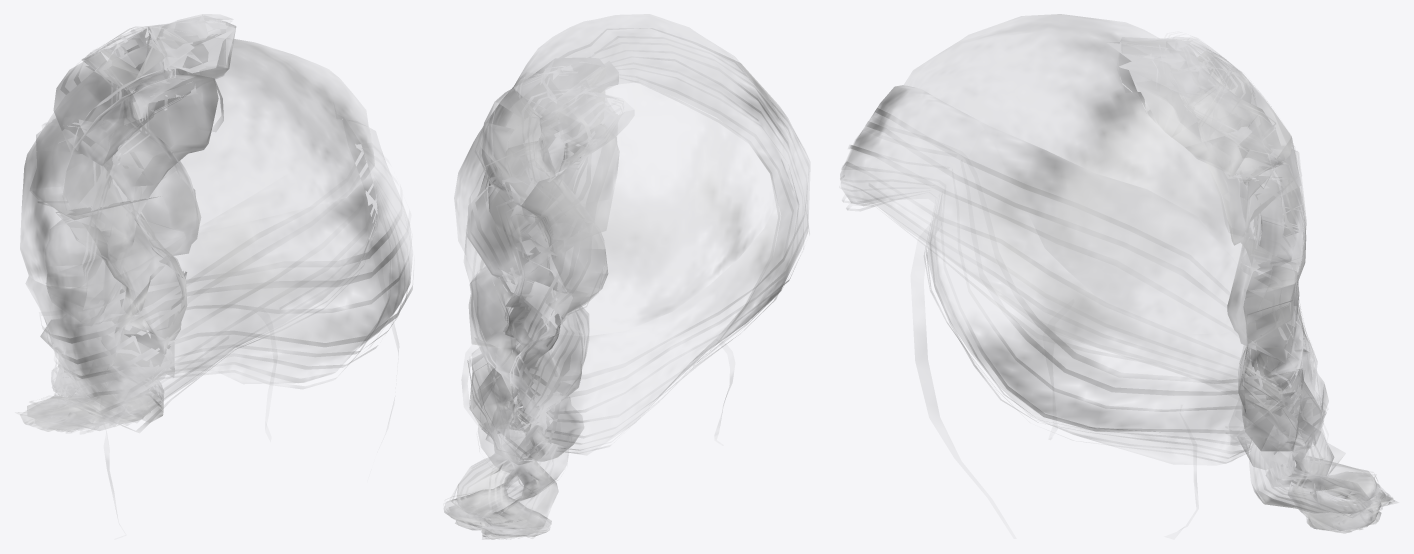
The model's file is daz_hair_unkempt_french_braid.glb.
3 views of the same model, side by side, from view 1: azimuth 30°, elevation 25°; view 2: azimuth 150°, elevation 25°; view 3: azimuth 270°, elevation 25° (orthographic). The views are drawn at different scales.
Parts seen in each view (by area): view 1: daz_hair_unkempt_french_braid; view 2: daz_hair_unkempt_french_braid; view 3: daz_hair_unkempt_french_braid.
Boxes of the visible parts, left/top/right/bottom form: daz_hair_unkempt_french_braid: left=15, top=15, right=412, bottom=482; daz_hair_unkempt_french_braid: left=444, top=23, right=809, bottom=539; daz_hair_unkempt_french_braid: left=840, top=14, right=1397, bottom=533.
Size of the model in its own units: 0.1828 by 0.2536 by 0.2708.
1 material, 1 textured.
